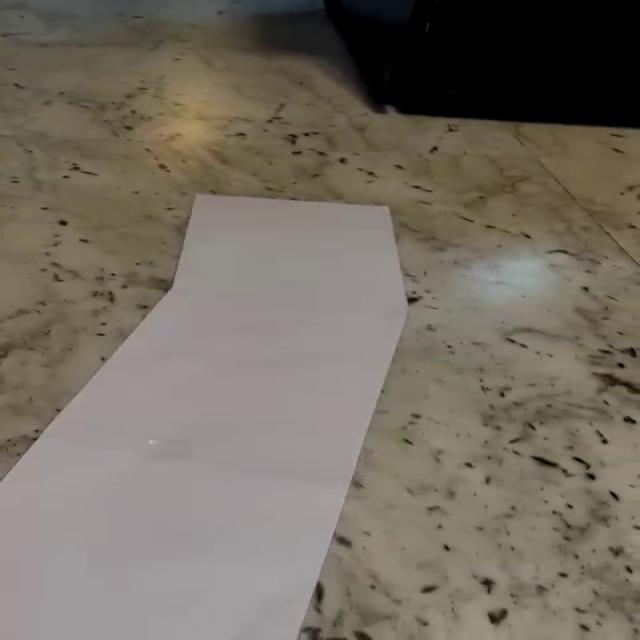road: (2, 196, 407, 640)
